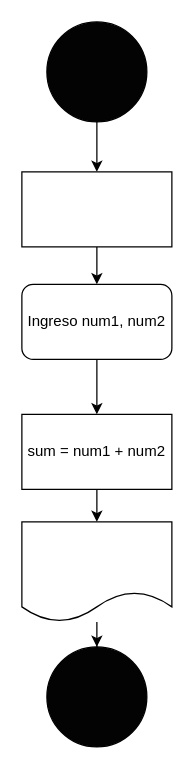
The diagram is 194 pixels wide and 769 high, and some of its shapes have lost their labels. The shapes that lost their labels are listed below. From the top down, each one's centre as x and y in pixels, then its label:
(96,209): num1, num2, sum
(96,571): "Imprimir resultado ", sum
